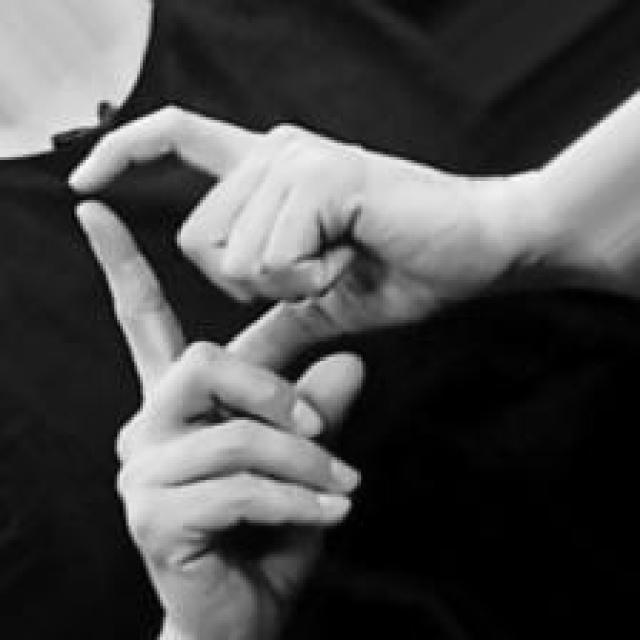D: (67, 99, 419, 460)
